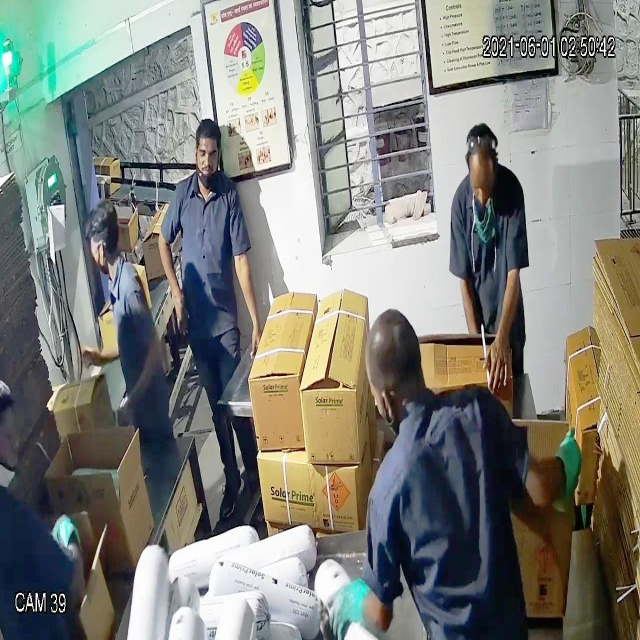Sin_gafas: (465, 164, 502, 198), (190, 139, 226, 171)
